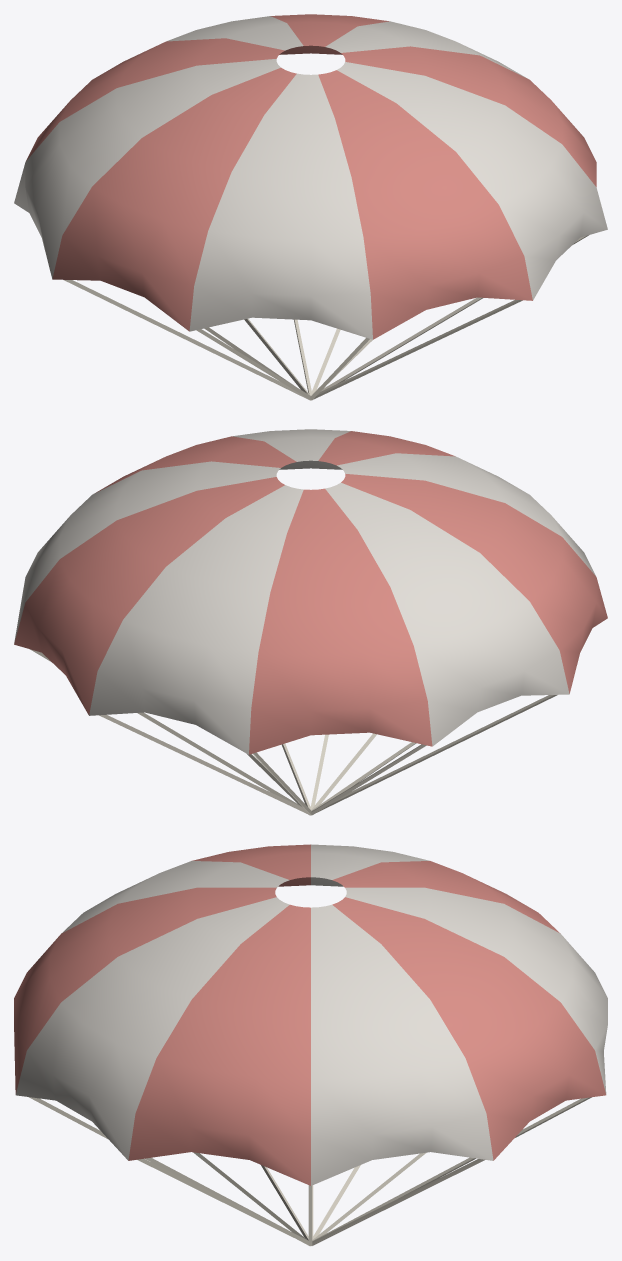
File: parachute.gltf
3 renders of one model, top to bottom at view 1: azimuth 30°, elevation 25°; view 2: azimuth 150°, elevation 25°; view 3: azimuth 270°, elevation 25°, orthographic. The views are drawn at different scales.
Parts seen in each view (by area): view 1: parachute; view 2: parachute; view 3: parachute.
Part boxes in pixels (left/top/right/bottom): parachute: left=14, top=14, right=607, bottom=400; parachute: left=14, top=429, right=607, bottom=815; parachute: left=14, top=844, right=607, bottom=1246.
Bounding box in the file's own units: 1.04 × 0.6528 × 0.9945.
